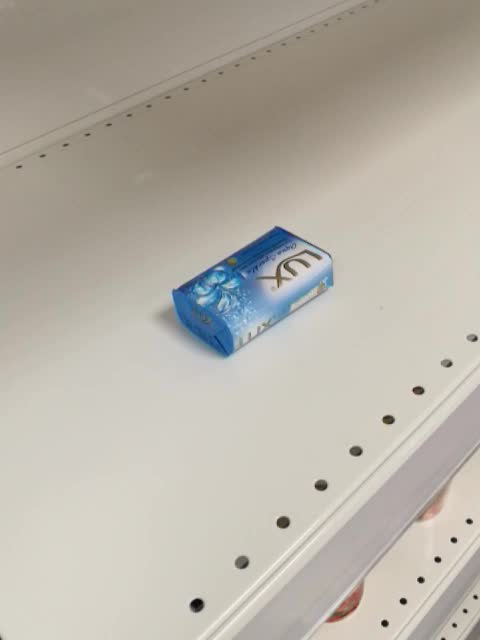soap: (171, 224, 336, 359)
